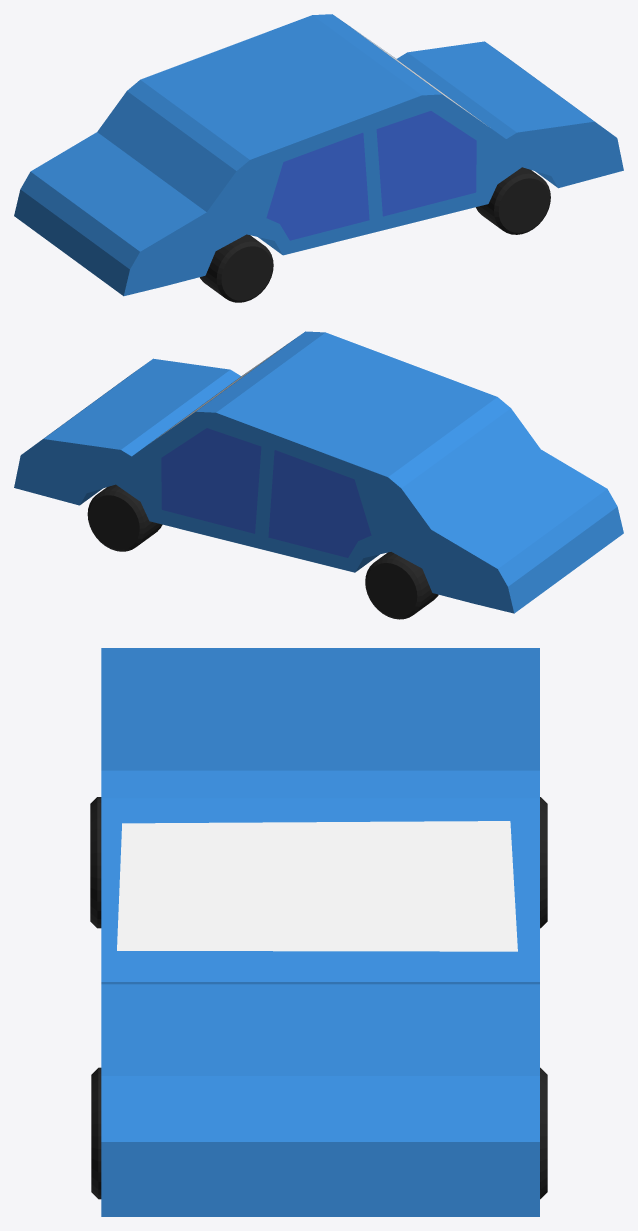
The model's file is car.glb.
3 renders of one model, top to bottom at view 1: azimuth 30°, elevation 25°; view 2: azimuth 150°, elevation 25°; view 3: azimuth 270°, elevation 25°, orthographic. The views are drawn at different scales.
Parts seen in each view (by area): view 1: Car_body, Car_door_right1, Car_door_right2, Car_wheel_back_right, Car_wheel_front_right; view 2: Car_body, Car_door_left1, Car_door_left2, Car_wheel_back_left, Car_wheel_front_left; view 3: Car_body, Car_wheel_back_right, Car_wheel_front_right, Car_wheel_front_left, Car_wheel_back_left.
Boxes of the visible parts, bbox=[...] form: Car_body: bbox=[14, 14, 623, 296]; Car_door_right1: bbox=[376, 111, 476, 216]; Car_door_right2: bbox=[266, 132, 369, 240]; Car_wheel_back_right: bbox=[200, 234, 273, 302]; Car_wheel_front_right: bbox=[476, 167, 550, 234]; Car_body: bbox=[14, 331, 623, 613]; Car_door_left1: bbox=[161, 428, 261, 533]; Car_door_left2: bbox=[268, 450, 371, 557]; Car_wheel_back_left: bbox=[365, 552, 438, 619]; Car_wheel_front_left: bbox=[87, 484, 162, 551]; Car_body: bbox=[101, 648, 539, 1216]; Car_wheel_back_right: bbox=[90, 797, 101, 928]; Car_wheel_front_right: bbox=[91, 1067, 101, 1199]; Car_wheel_front_left: bbox=[540, 1067, 547, 1199]; Car_wheel_back_left: bbox=[540, 797, 547, 928].
Bounding box in the file's own units: 12.88 × 4 × 5.1.
